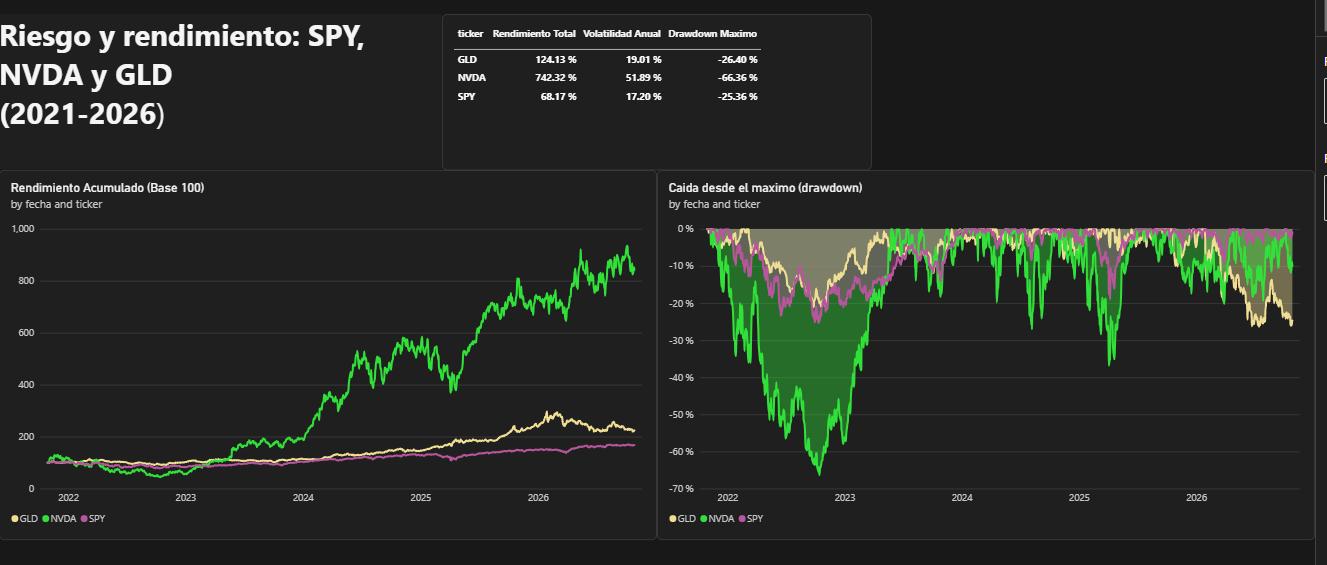

The dashboard page shown, as its layout file describes it:
{"tool":"powerbi","page":{"name":"Page 1","canvas":[1920,1080],"ordinal":0},"visuals":[{"type":"lineChart","fields":{"Category":["vw_analisis.fecha"],"Series":["vw_analisis.ticker"],"Y":["Sum(vw_analisis.indice_base_100)"]},"box":[0,258.2,960,539.8],"z":0},{"type":"areaChart","fields":{"Category":["vw_analisis.fecha"],"Series":["vw_analisis.ticker"],"Y":["Sum(vw_analisis.drawdown)"]},"box":[960,258.2,960,539.8],"z":1},{"type":"tableEx","fields":{"Values":["vw_resumen.ticker","Sum(vw_resumen.rendimiento_total)","Sum(vw_resumen.volatilidad_anual)","Sum(vw_resumen.drawdown_maximo)"]},"box":[646.3,30.6,627.4,227.6],"z":2},{"type":"textbox","box":[0,31,646,227],"z":3}]}

Visuals, with their boxes on the page's 1920x1080 design canvas (x1, y1, x2, y2). These are canvas units, not pixel positions in the 1327x565 screenshot, which may show the page scaled, cropped or inside an application window:
lineChart - vw_analisis.fecha x vw_analisis.ticker: (0, 258, 960, 798)
areaChart - vw_analisis.fecha x vw_analisis.ticker: (960, 258, 1920, 798)
tableEx - vw_resumen.ticker x Sum(vw_resumen.rendimiento_total): (646, 31, 1274, 258)
textbox: (0, 31, 646, 258)
